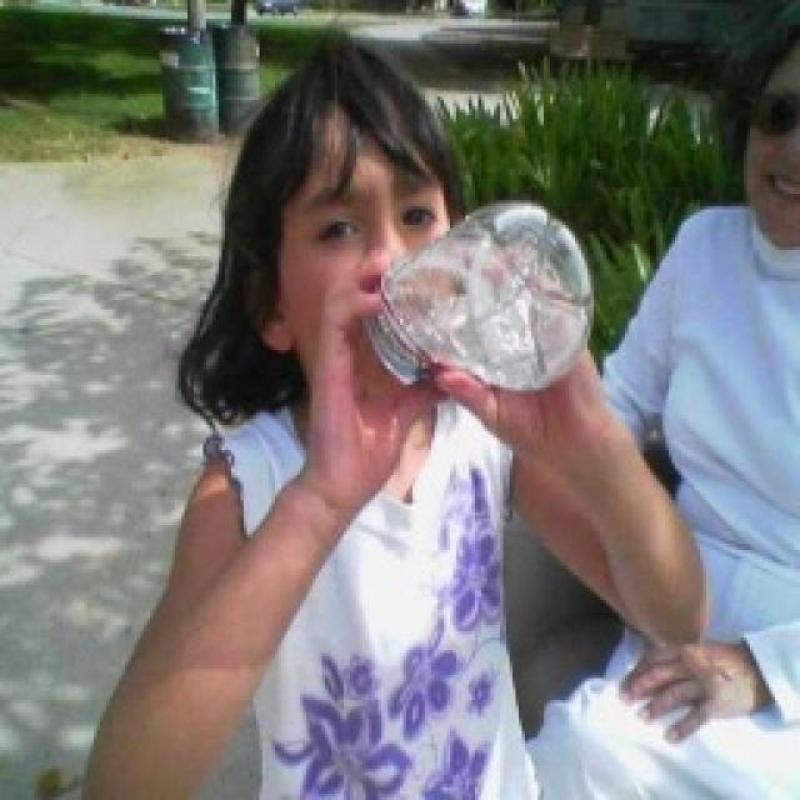botella: (364, 202, 596, 392)
